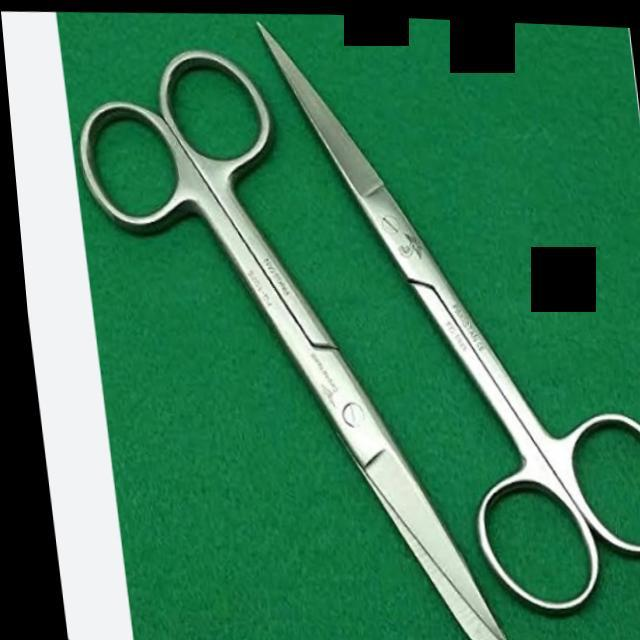Straight Mayo: (66, 21, 502, 640), (247, 9, 640, 624)
